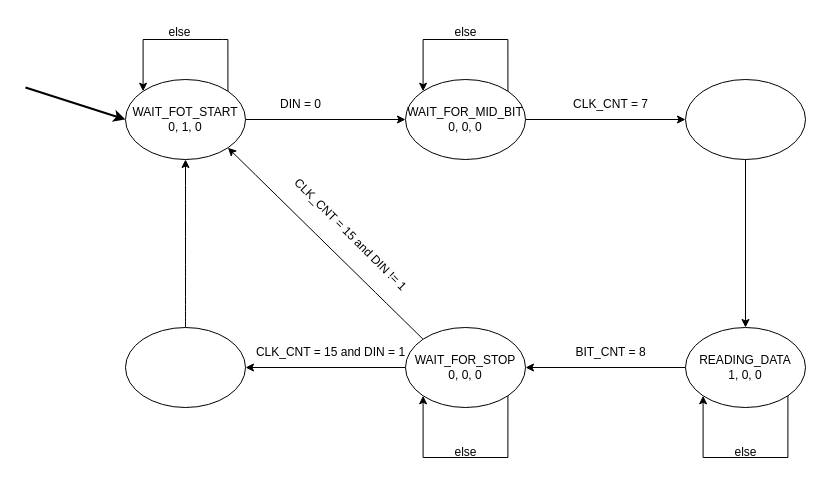
Some shapes in this 823 by 484 pixel diagram are drawn without their labels. Each missing label, with the centre of its shape:
"CLK_CNT_RST 0, 1, 0" belongs at (745,119).
"VALIDATING 0, X, 1" belongs at (185,367).
